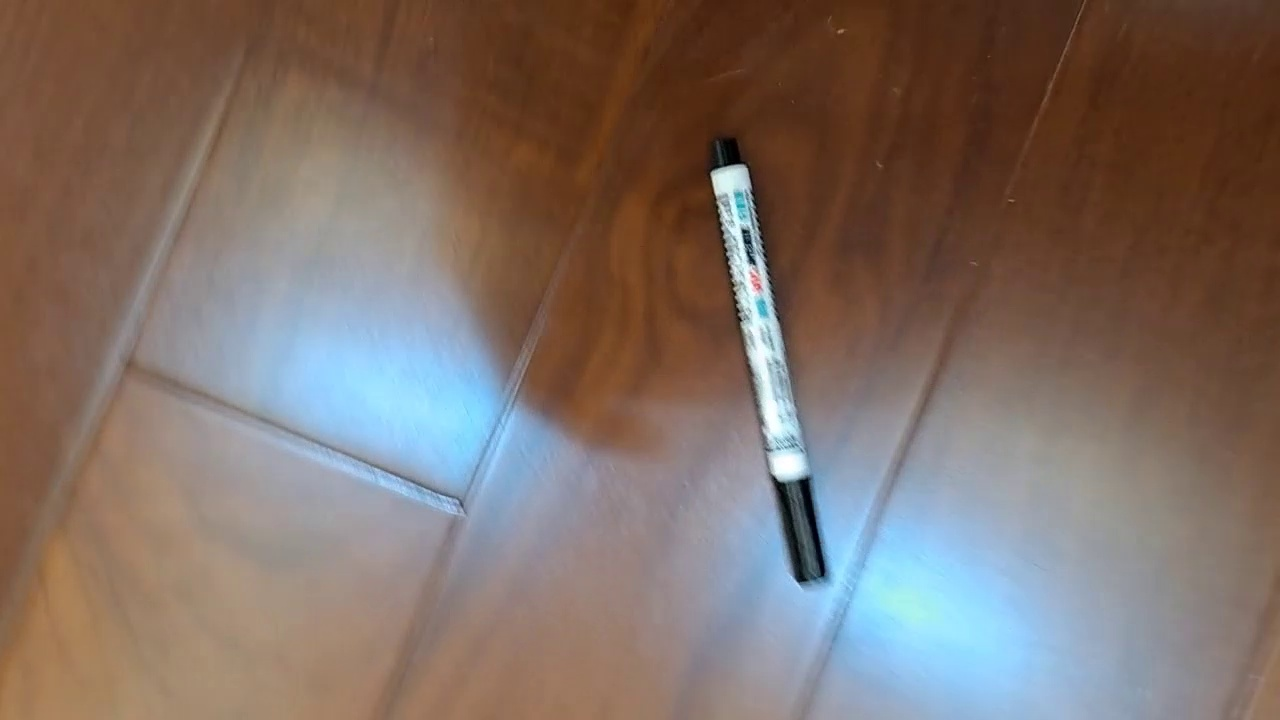pen: (707, 135, 833, 591)
